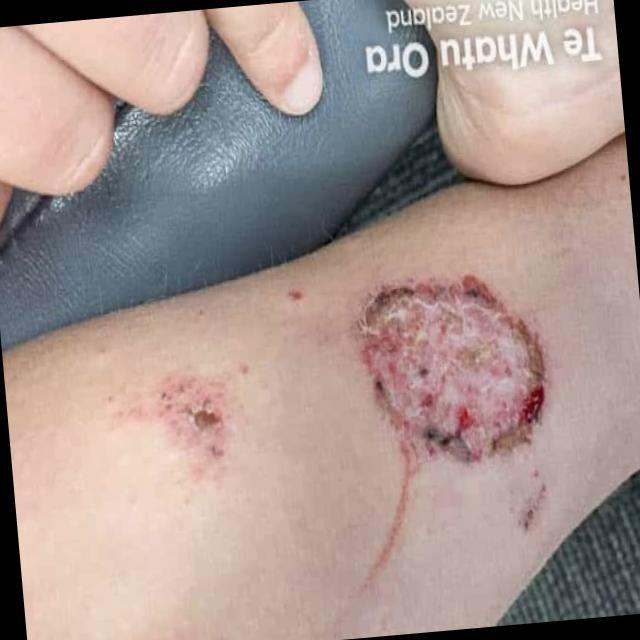Eczema: (344, 276, 546, 460), (123, 356, 227, 465)
